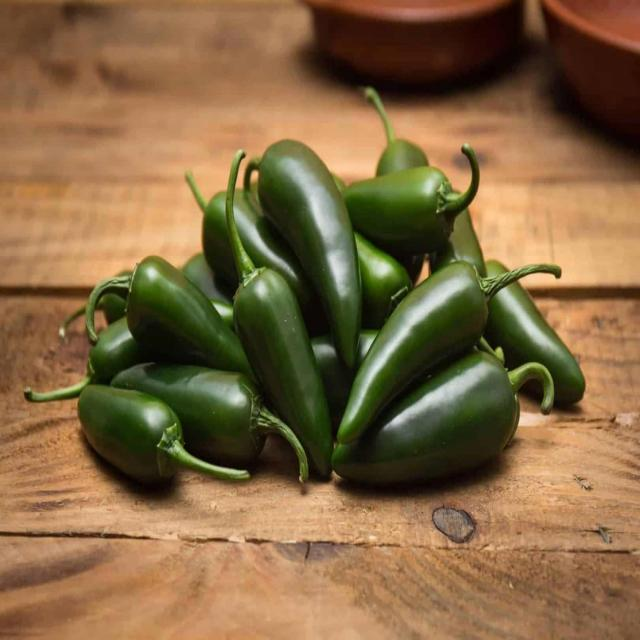aji: (75, 155, 623, 495)
